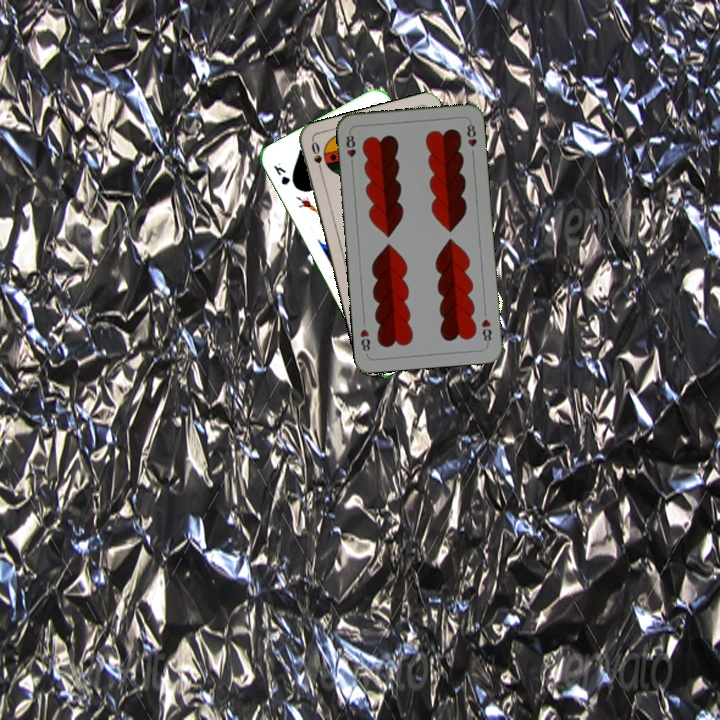GK: (269, 158, 293, 189)
H8: (342, 128, 358, 169), (477, 315, 494, 347)
SO: (307, 137, 326, 178)
